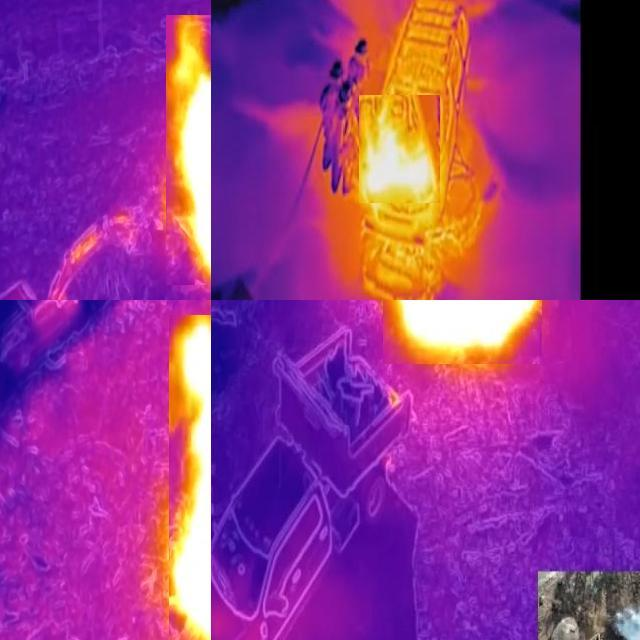fire: (169, 315, 212, 640), (166, 15, 212, 285), (383, 301, 542, 364), (359, 95, 440, 203)
